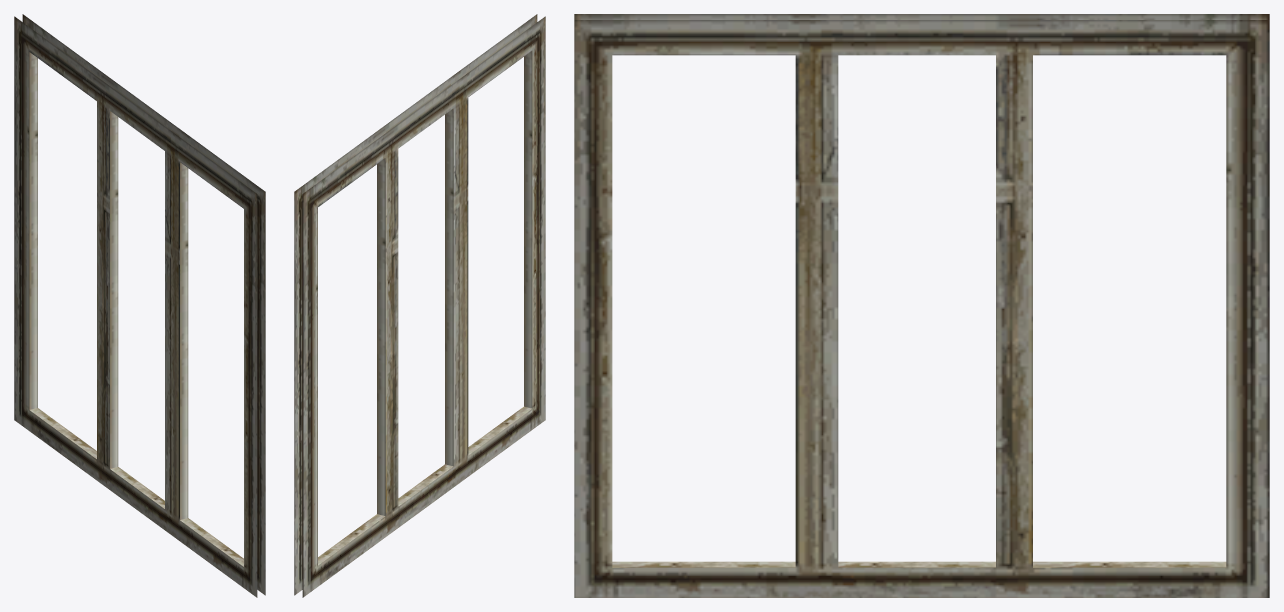
File: civ_window_e.FBX
3 views of the same model, side by side, from view 1: azimuth 30°, elevation 25°; view 2: azimuth 150°, elevation 25°; view 3: azimuth 270°, elevation 25° (orthographic). The views are drawn at different scales.
Visible parts, largest first — view 1: civ_window_e; view 2: civ_window_e; view 3: civ_window_e.
Boxes of the visible parts, x1,y1,x2,y2 form: civ_window_e: [14, 14, 265, 597]; civ_window_e: [294, 14, 545, 597]; civ_window_e: [574, 14, 1269, 597].
Size of the model in its own units: 3.05 by 138 by 150.
